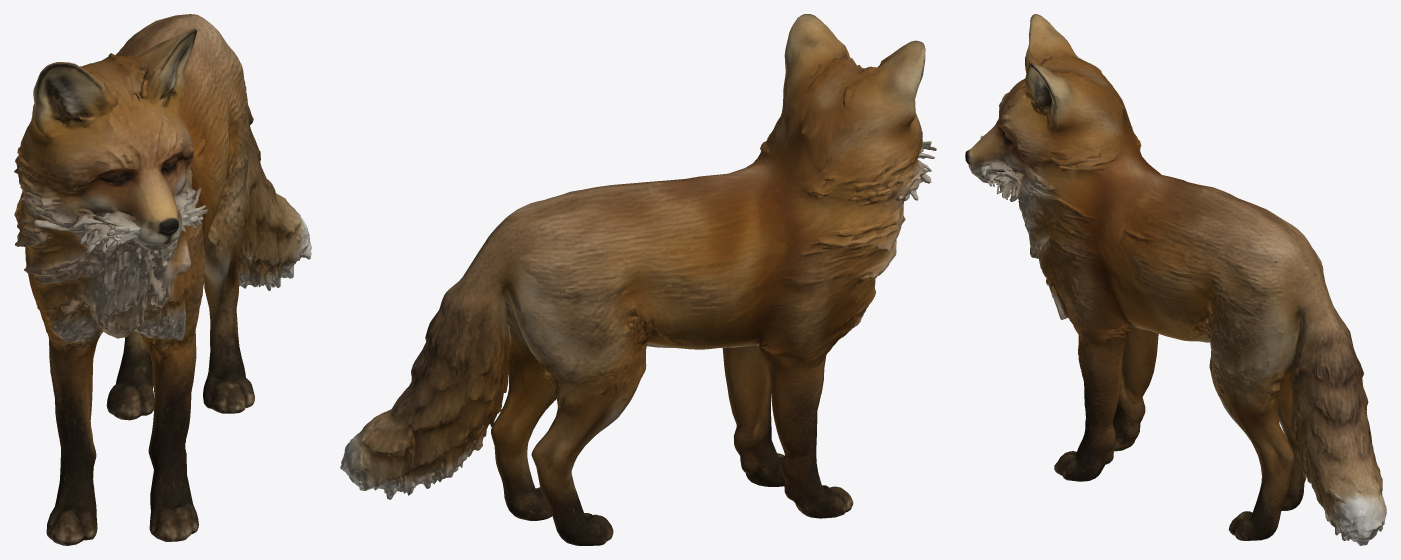
Rendered from red-fox-v21.glb.
3 views of the same model, side by side, from view 1: azimuth 30°, elevation 25°; view 2: azimuth 150°, elevation 25°; view 3: azimuth 270°, elevation 25° (orthographic). The views are drawn at different scales.
Parts seen in each view (by area): view 1: geometry_0; view 2: geometry_0; view 3: geometry_0.
Boxes of the visible parts, x1=… form: geometry_0: x1=14, y1=14, x2=311, y2=545; geometry_0: x1=340, y1=14, x2=936, y2=545; geometry_0: x1=965, y1=14, x2=1386, y2=545.
Bounding box in the file's own units: 0.8992 × 0.952 × 0.8933.
Materials: 1 (1 with a texture image).
